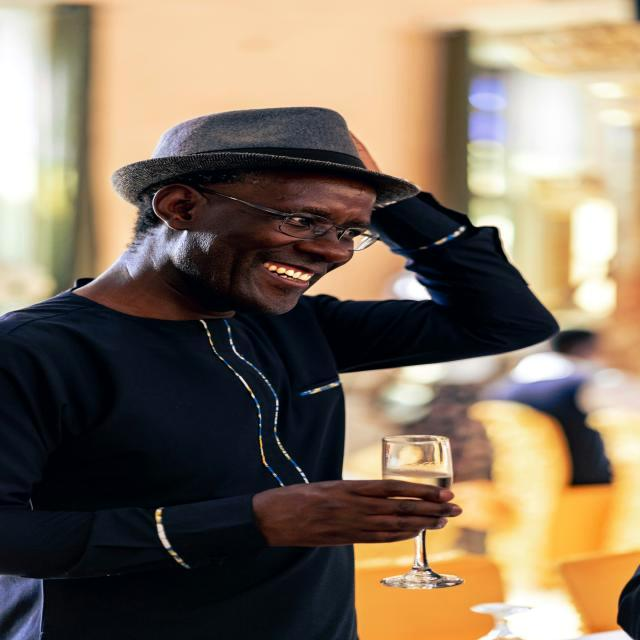no_hard_hat: (111, 107, 419, 209)
person: (0, 109, 559, 640)
